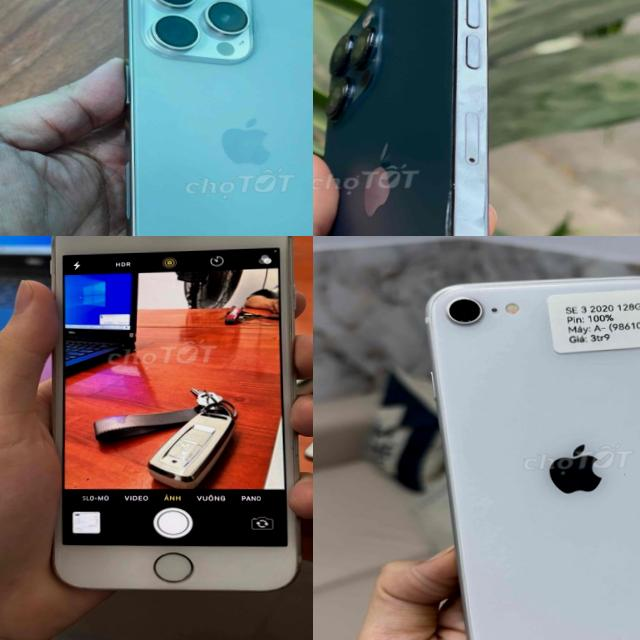scratch: (42, 236, 58, 247), (282, 236, 294, 239)
